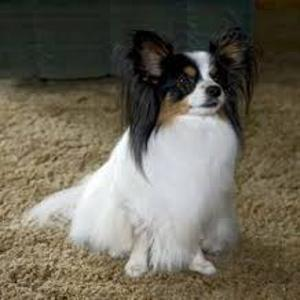yell: (26, 21, 259, 275)
